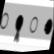correct: (41, 16, 54, 38)
no answer: (27, 13, 40, 37), (0, 10, 10, 32)
not correct: (10, 13, 24, 46)
